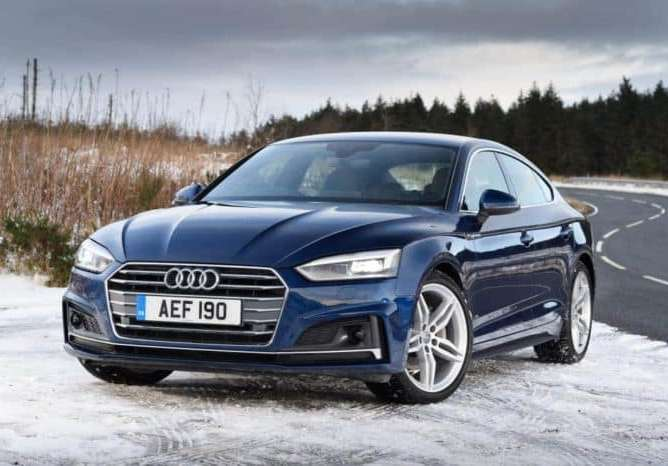audi: (160, 266, 223, 294)
